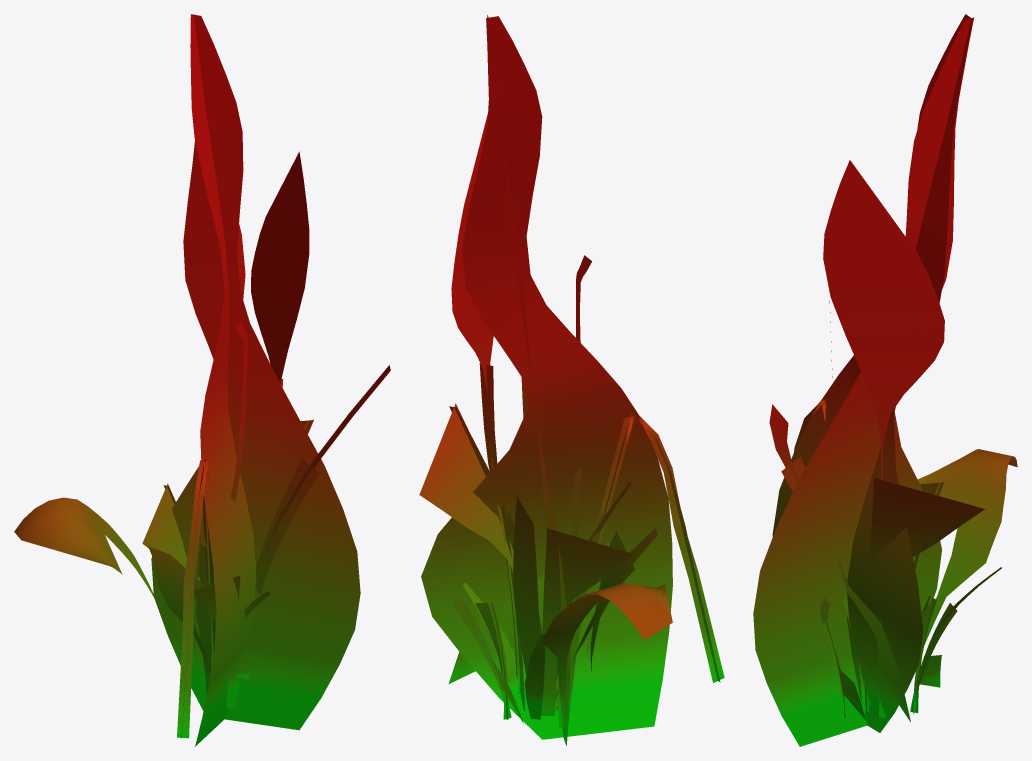
Rendered from tbbqejqr_Var3_LOD0.fbx.
The picture shows the model from 3 angles, left to right: view 1: azimuth 30°, elevation 25°; view 2: azimuth 150°, elevation 25°; view 3: azimuth 270°, elevation 25°; orthographic projection. The views are drawn at different scales.
Parts seen in each view (by area): view 1: _9531_Var3_LOD0; view 2: _9531_Var3_LOD0; view 3: _9531_Var3_LOD0.
Boxes of the visible parts, bbox=[...] form: _9531_Var3_LOD0: bbox=[14, 14, 390, 746]; _9531_Var3_LOD0: bbox=[419, 15, 724, 745]; _9531_Var3_LOD0: bbox=[753, 14, 1017, 746].
Bounding box in the file's own units: 10.53 × 24 × 8.
